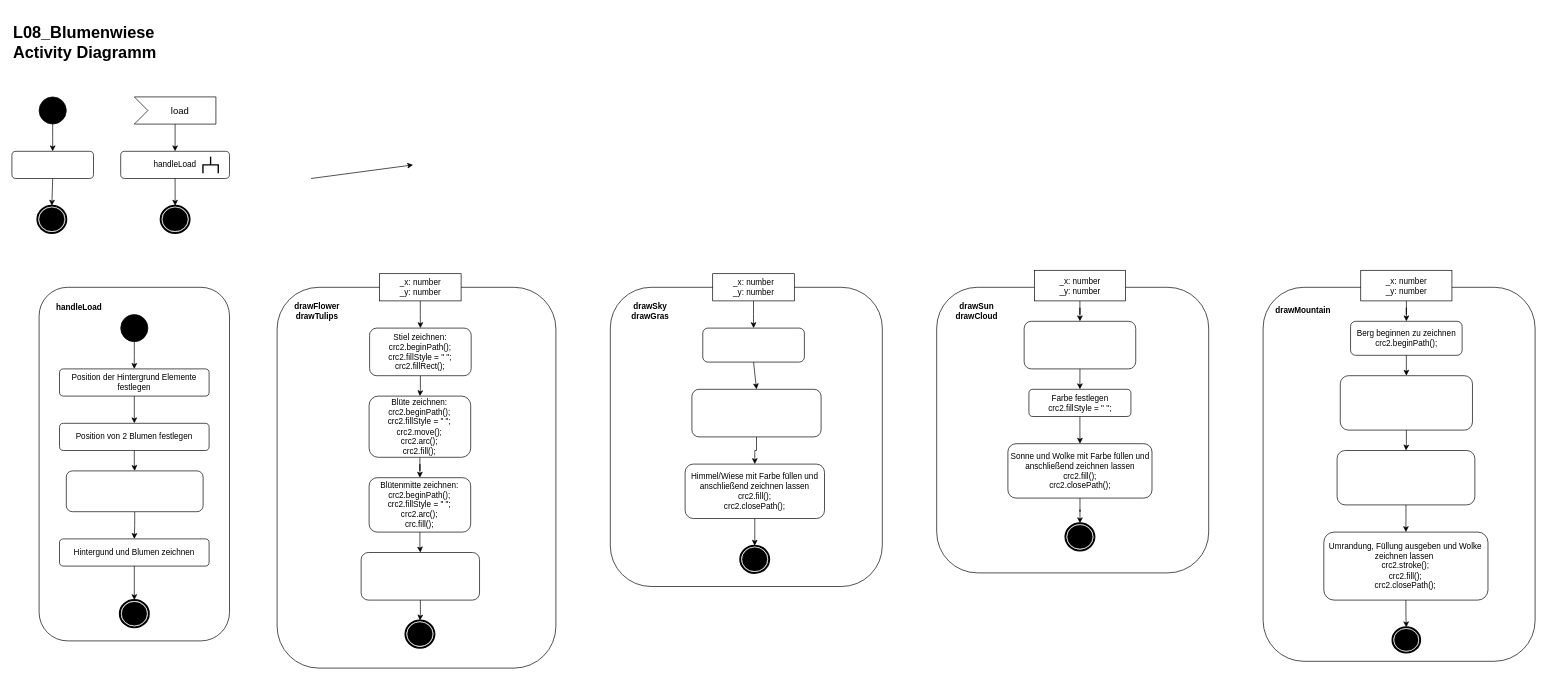
This 1547x680 diagram has some shape labels left out. Each missing label, with the box of its shape:
Berg gestalten durch Vernetzung mehrerer Pfade crc2.moveTo(); crc2.lineTo();: (1336, 450, 1475, 505)
crc2.beginPath(); crc2.fillStyle = " ";: (702, 327, 804, 362)
for-Schleife, um die Blumen bei jedem neuladen anders zu verteilen: (66, 470, 203, 512)
Himmel/Wiese anlegen als Viereck crc2.moveTo(); crc2.lineTo();: (691, 389, 821, 437)
install load listener on window: (11, 151, 94, 178)
Sonne und Wolke durch Kreise darstellen lassen crc2.beginPath(); crc.arc();: (1023, 321, 1136, 369)
Stiel, Blüte und Blütenmitte auf den Canvas zeichnen lassen crc2.closePath();: (360, 552, 480, 600)
Umrandungsfarbe und -dicke festlegen crc2.strokeStyle = " "; crc2.lineWidth = ;: (1340, 375, 1472, 430)
